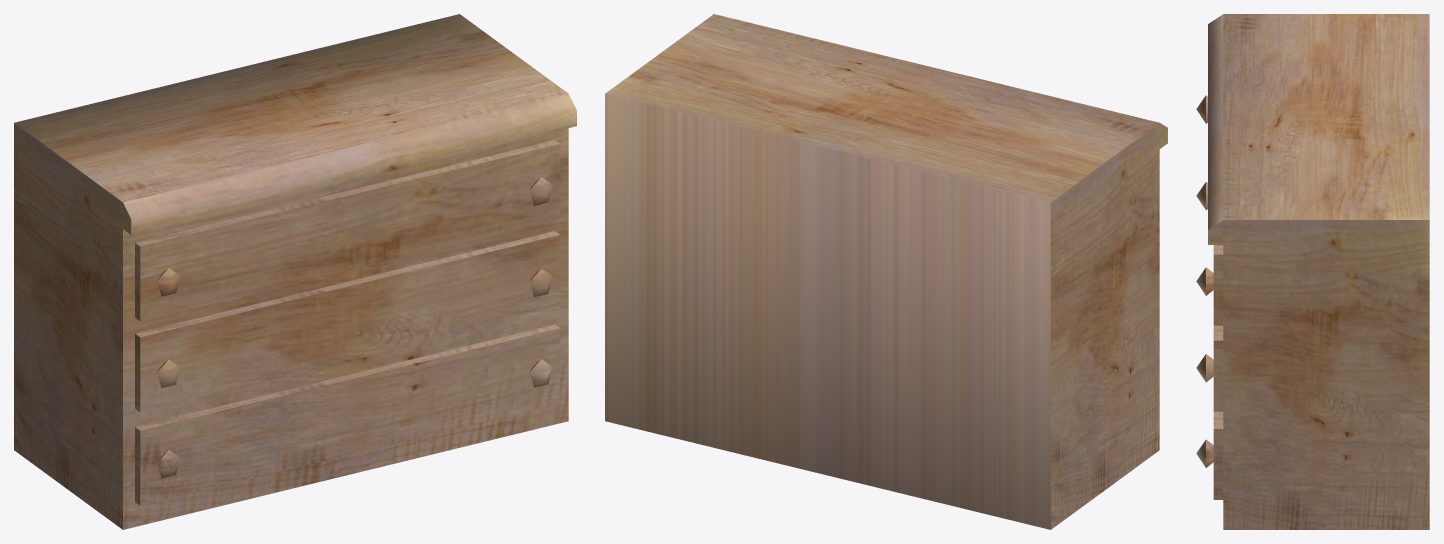
Rendered from spinta.obj.
The picture shows the model from 3 angles, left to right: view 1: azimuth 30°, elevation 25°; view 2: azimuth 150°, elevation 25°; view 3: azimuth 270°, elevation 25°; orthographic projection. The views are drawn at different scales.
Bounding box in the file's own units: 1.63 × 1.15 × 0.7819.
1 material, 1 textured.
